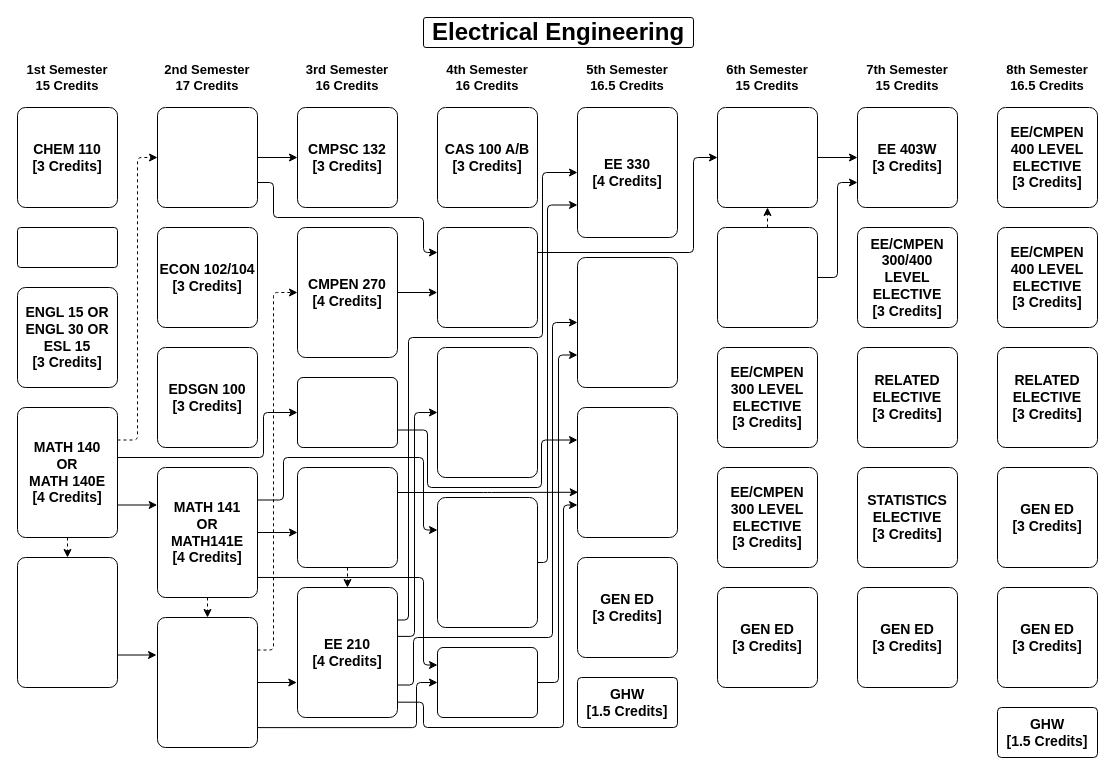
This 1115x775 diagram has some shape labels left out. The box of each missing label's shape, as (x1, y1, x2, y2) in pixels:
CMPSC 131 [3 Credits]: (156, 106, 258, 208)
EE 200 [3 Credits]: (436, 226, 538, 328)
EE 300W [3 Credits]: (716, 106, 818, 208)
EE 310 [4 Credits]: (436, 346, 538, 478)
EE 340 [4 Credits]: (576, 256, 678, 388)
EE 350 [4 Credits]: (576, 406, 678, 538)
EE8/ EE9/ FYS [1 Credit]: (16, 226, 118, 268)
ENGL 202C [3 Credits]: (716, 226, 818, 328)
MATH 220 [2 Credits]: (296, 376, 398, 448)
MATH 230 [4 Credits]: (436, 496, 538, 628)
MATH 250 [3 Credits]: (296, 466, 398, 568)
PHYS 211 [4 Credits]: (16, 556, 118, 688)
PHYS 212 [4 Credits]: (156, 616, 258, 748)
PHYS 214 [2 Credits]: (436, 646, 538, 718)
